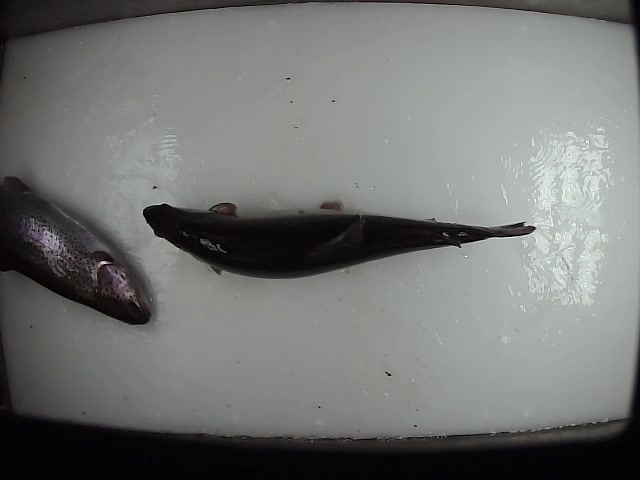Fish: (142, 204, 535, 280)
